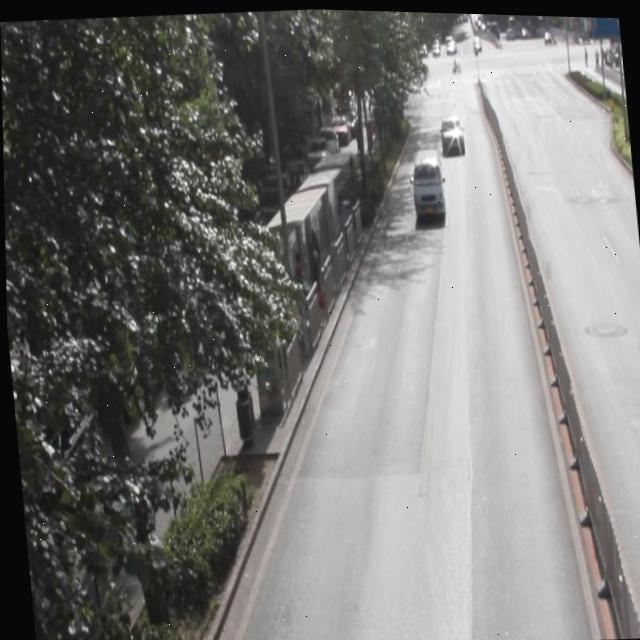car: (437, 111, 462, 152)
truck: (408, 143, 443, 212)
